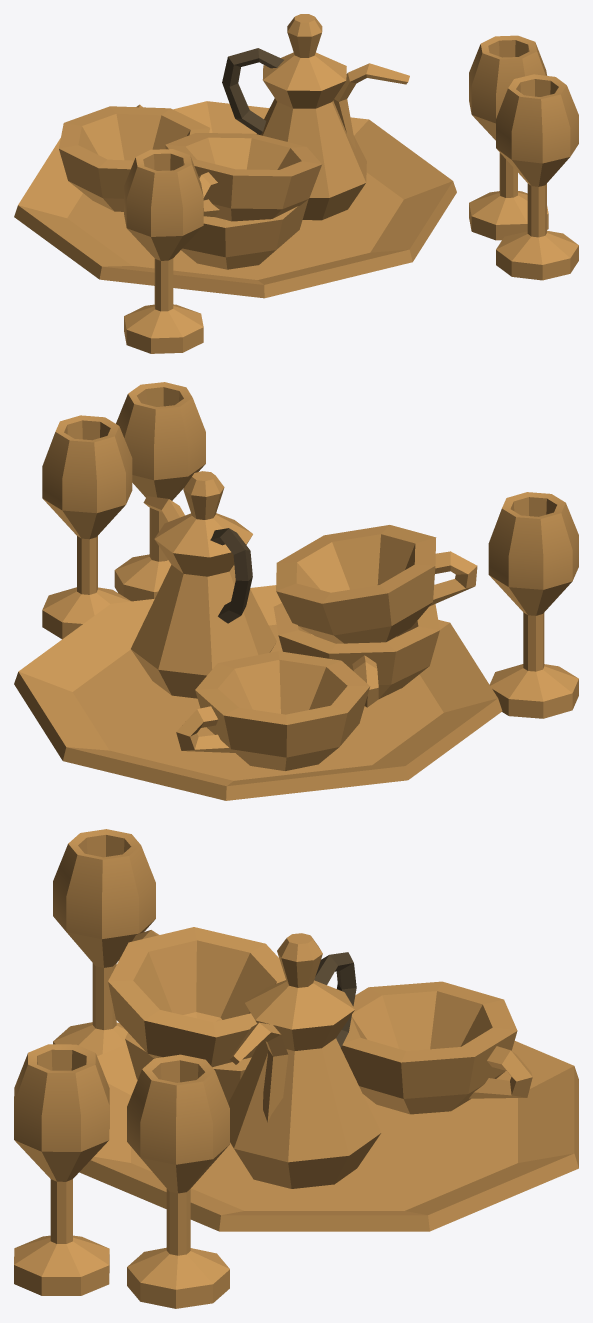
Rendered from SM_Prop_Gold_Plates_Preset_02.glb.
3 views of the same model, one above another, from view 1: azimuth 30°, elevation 25°; view 2: azimuth 150°, elevation 25°; view 3: azimuth 270°, elevation 25° (orthographic). The views are drawn at different scales.
Parts seen in each view (by area): view 1: SM_Prop_Gold_Plates_Preset_02; view 2: SM_Prop_Gold_Plates_Preset_02; view 3: SM_Prop_Gold_Plates_Preset_02.
Boxes of the visible parts, x1,y1,x2,y2 form: SM_Prop_Gold_Plates_Preset_02: (14,14,578,353); SM_Prop_Gold_Plates_Preset_02: (14,382,578,800); SM_Prop_Gold_Plates_Preset_02: (14,829,578,1308).
Bounding box in the file's own units: 0.7536 × 0.3334 × 0.6687.
1 material, 1 textured.
